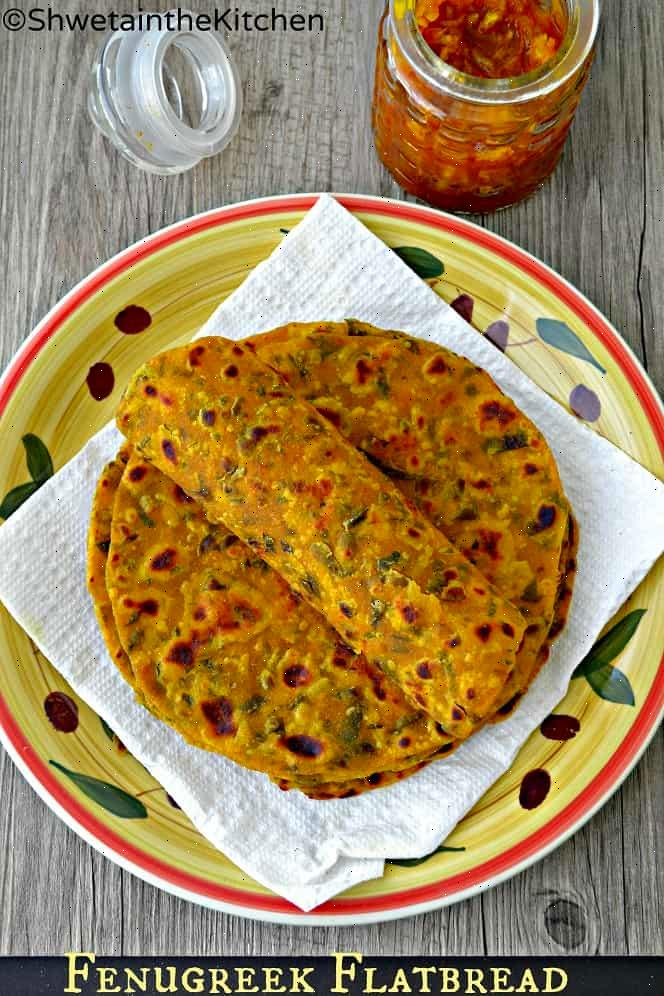thepla: (101, 321, 525, 764)
